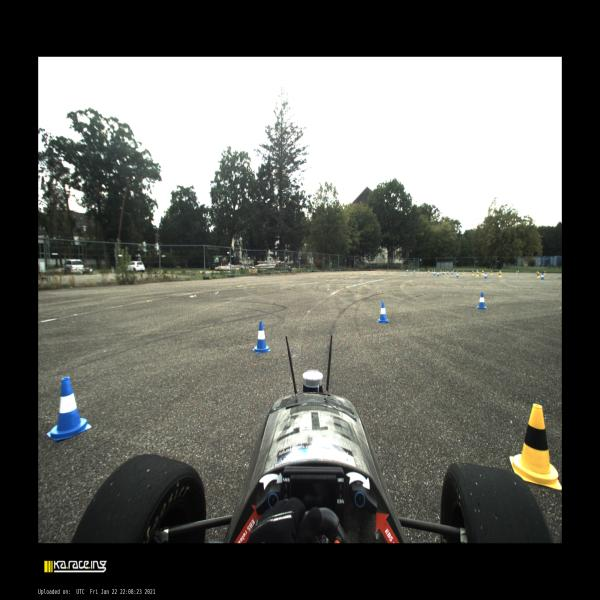blue_cone: (47, 377, 92, 442), (253, 322, 271, 353), (377, 302, 390, 324), (475, 292, 488, 310), (540, 273, 544, 280), (484, 272, 487, 278), (456, 272, 459, 277), (433, 271, 436, 275), (437, 272, 439, 276), (447, 270, 449, 274), (451, 271, 453, 274), (406, 270, 409, 272), (418, 270, 420, 272), (428, 270, 429, 274), (518, 270, 519, 274), (443, 271, 444, 274), (414, 270, 415, 273)
yellow_cone: (509, 403, 562, 490), (498, 272, 502, 278), (537, 272, 540, 278), (490, 270, 493, 275), (476, 271, 479, 276), (472, 270, 474, 276), (482, 270, 484, 275), (463, 270, 465, 274), (440, 270, 442, 272), (516, 270, 517, 274), (544, 272, 546, 274), (445, 270, 446, 273), (429, 270, 430, 272), (432, 270, 433, 272)
